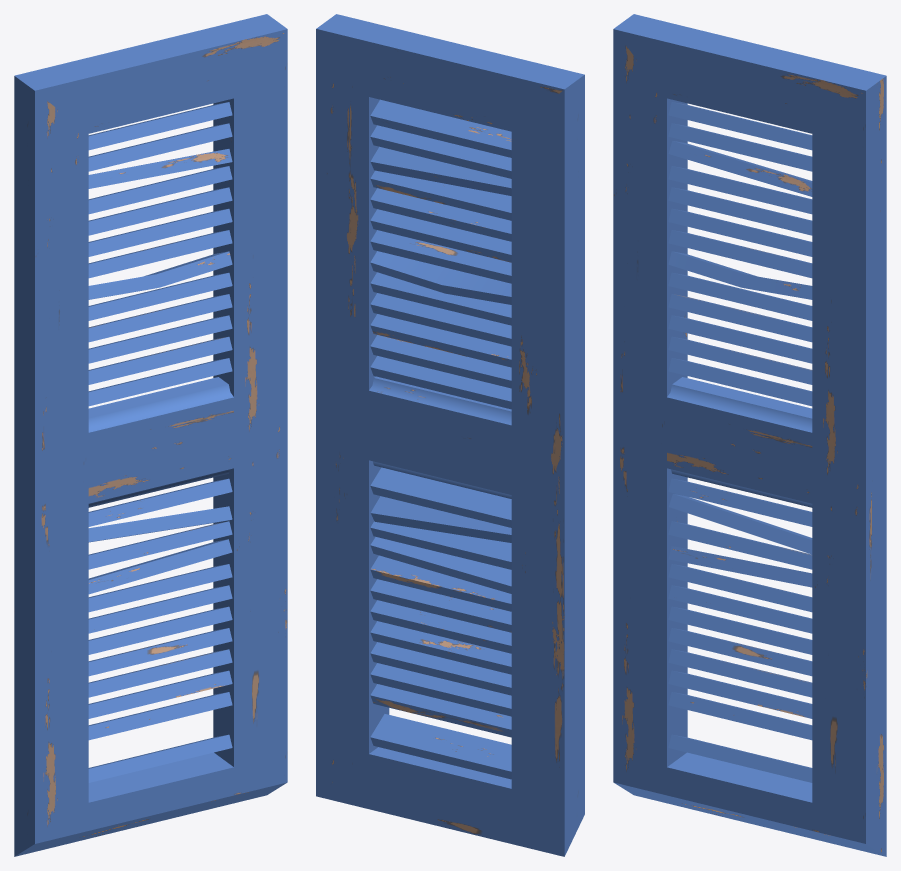
File: ShutterWallDoubleWindowRight.fbx
3 views of the same model, side by side, from view 1: azimuth 30°, elevation 25°; view 2: azimuth 150°, elevation 25°; view 3: azimuth 330°, elevation 25° (orthographic).
Visible parts, largest first — view 1: ShutterWallDoubleWindowRight; view 2: ShutterWallDoubleWindowRight; view 3: ShutterWallDoubleWindowRight.
Boxes of the visible parts, x1,y1,x2,y2 form: ShutterWallDoubleWindowRight: (14, 14, 287, 856); ShutterWallDoubleWindowRight: (316, 14, 584, 856); ShutterWallDoubleWindowRight: (613, 14, 886, 856).
Size of the model in its own units: 37.6 by 111 by 5.31.
Materials: 1 (1 with a texture image).
